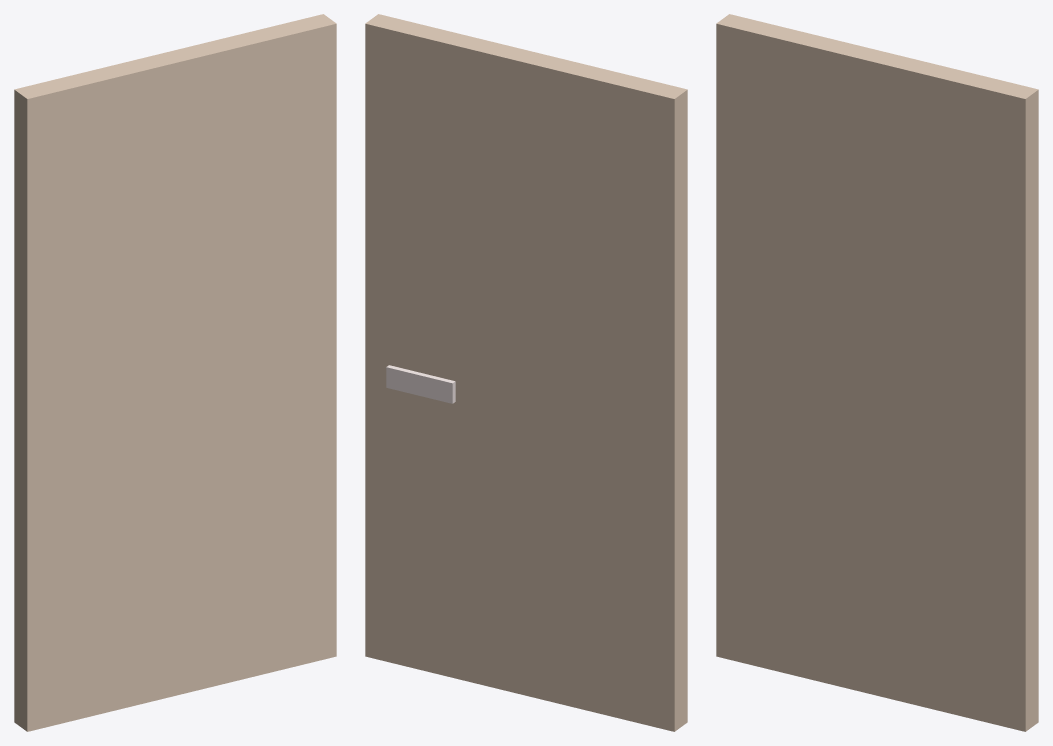
Rendered from door.fbx.
The picture shows the model from 3 angles, left to right: view 1: azimuth 30°, elevation 25°; view 2: azimuth 150°, elevation 25°; view 3: azimuth 330°, elevation 25°; orthographic projection.
Parts seen in each view (by area): view 1: Cube.007; view 2: Cube.007; view 3: Cube.007.
Part boxes in pixels (x1,y1,x2,y2): Cube.007: [14, 14, 336, 731]; Cube.007: [365, 14, 687, 731]; Cube.007: [716, 14, 1038, 731].
Size of the model in its own units: 405 by 792 by 39.87.
